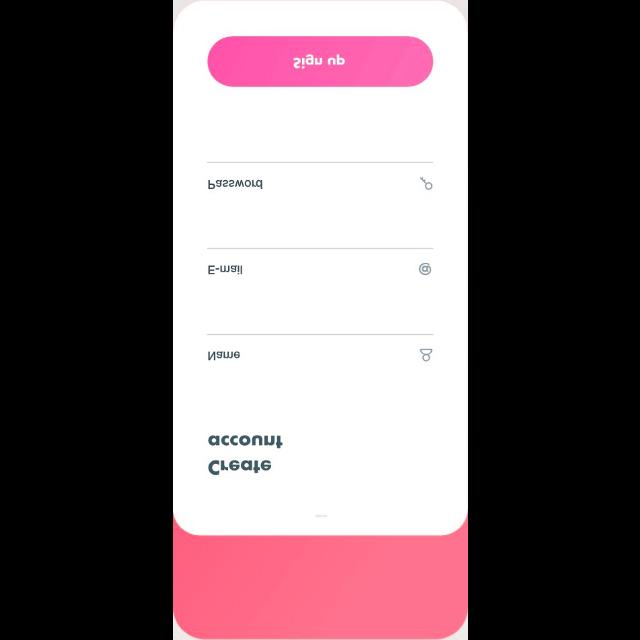icon: (419, 348, 431, 362), (418, 263, 430, 275)
image: (420, 178, 432, 190)
input: (208, 334, 432, 362), (208, 161, 432, 189), (208, 248, 432, 274)
text: (208, 434, 282, 476), (208, 180, 262, 188), (207, 265, 241, 275), (208, 351, 240, 359)
textbutton: (208, 36, 432, 86)
